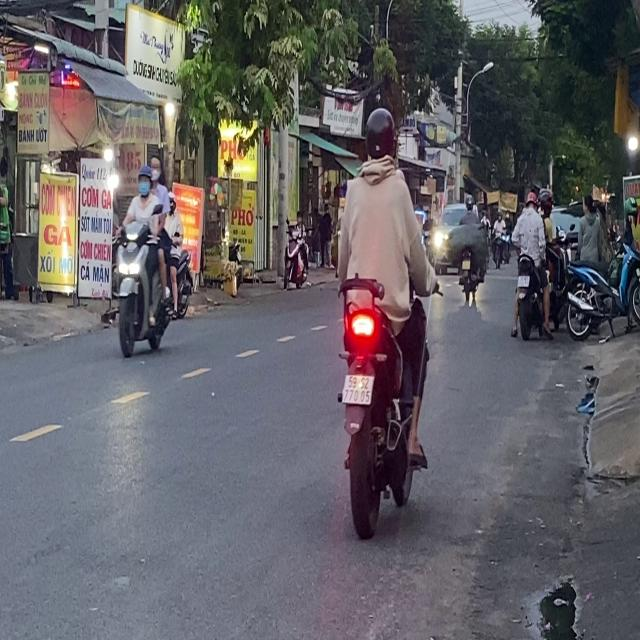helmet: (362, 106, 398, 166), (136, 164, 151, 197), (538, 186, 552, 214), (148, 154, 161, 180)
licenseplate: (331, 102, 438, 537), (113, 159, 174, 359), (510, 184, 552, 340)
nohelmet: (342, 374, 372, 404), (518, 275, 529, 287)
